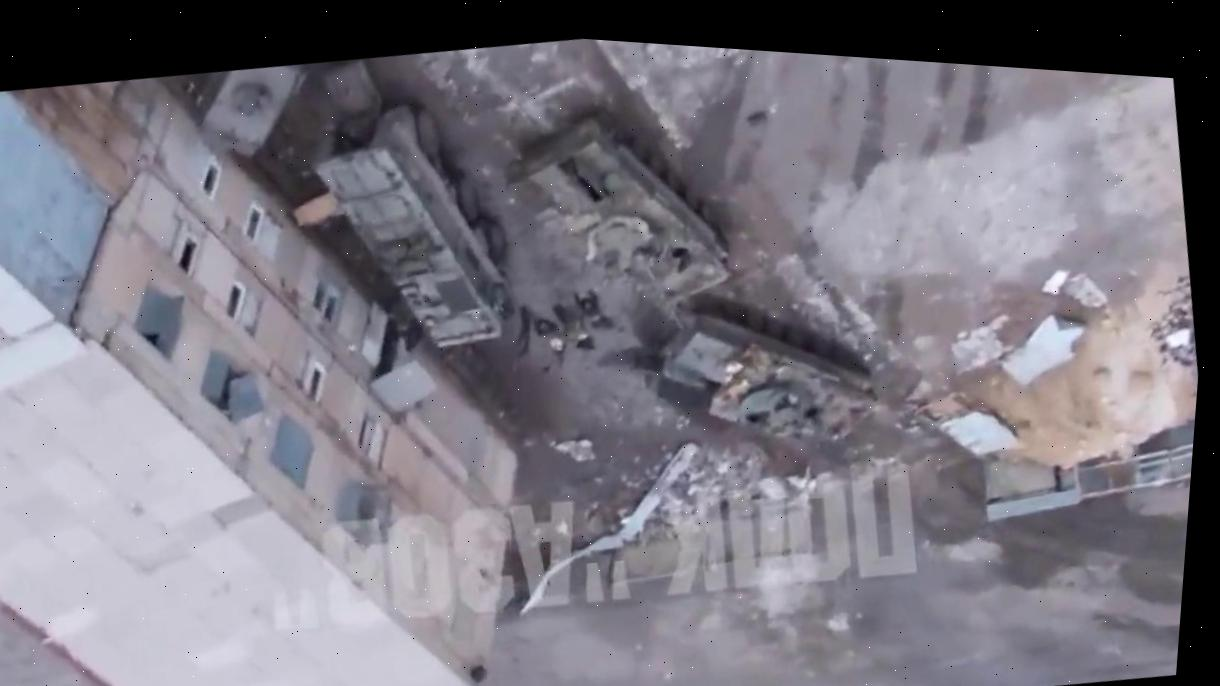armored_car: (178, 55, 323, 168)
person: (529, 311, 579, 374), (572, 287, 623, 342), (502, 301, 542, 366), (546, 298, 594, 347), (397, 312, 429, 355)
tank: (488, 91, 745, 331), (637, 277, 891, 474)
truck: (276, 57, 537, 375)
